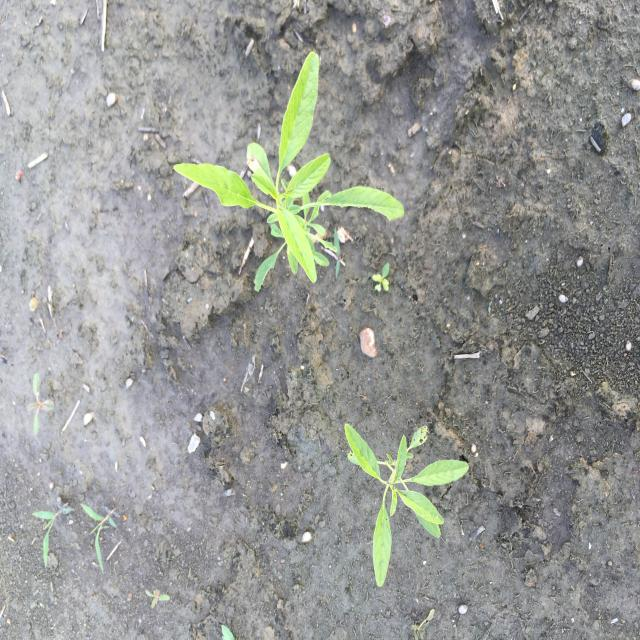Waterhemp: (171, 50, 405, 293), (342, 422, 470, 589)
